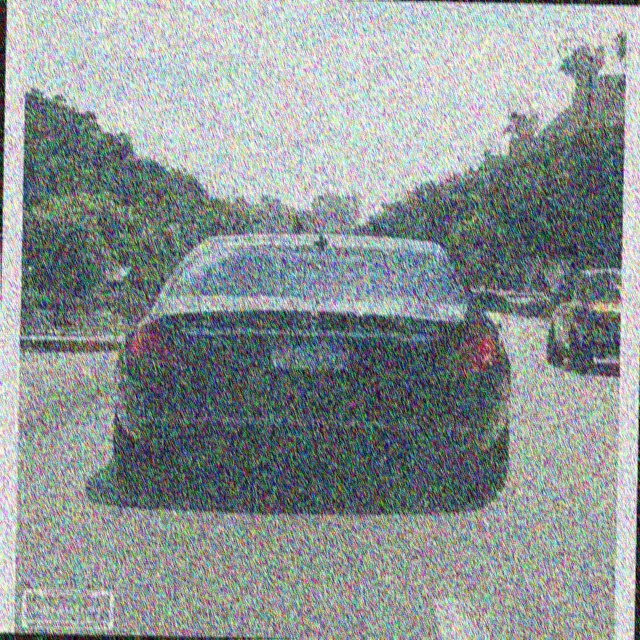License Plate: (267, 337, 350, 373)
